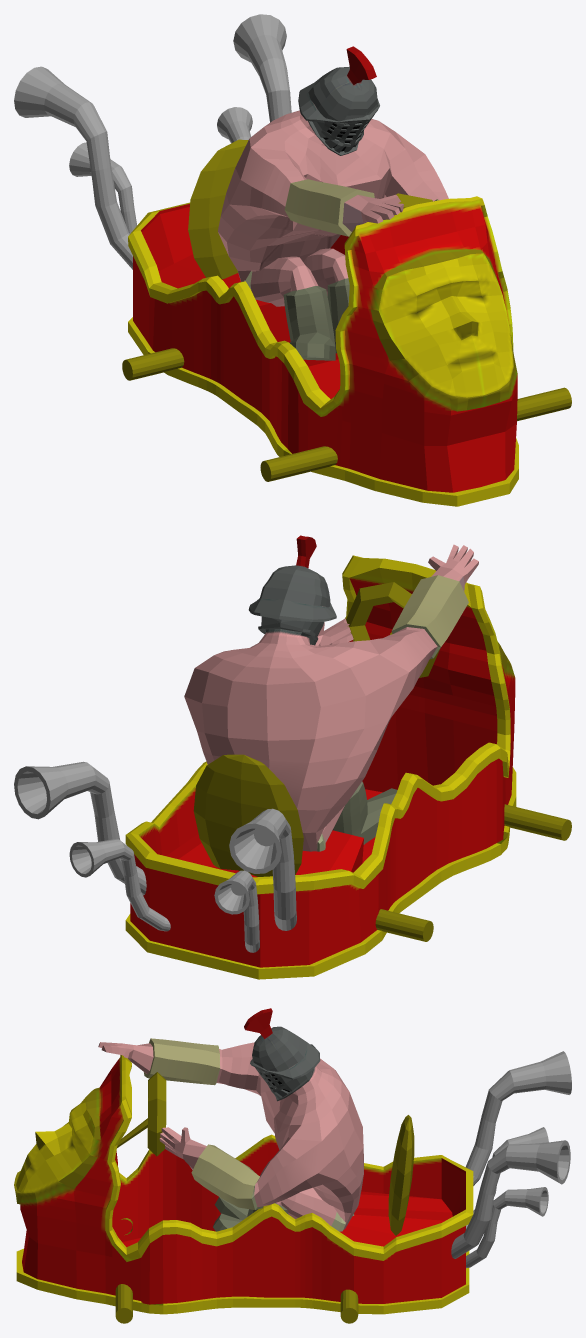
File: gladiVacile_000527.obj
3 renders of one model, top to bottom at view 1: azimuth 30°, elevation 25°; view 2: azimuth 150°, elevation 25°; view 3: azimuth 270°, elevation 25°, orthographic. The views are drawn at different scales.
Visible parts, largest first — view 1: GladiChasis_GladiChasisH, Gadiador_Gladiador_H.001, GladiTubos_GladiTubosH, GladiVolante_GladiVolanteH; view 2: GladiChasis_GladiChasisH, Gadiador_Gladiador_H.001, GladiTubos_GladiTubosH, GladiVolante_GladiVolanteH; view 3: GladiChasis_GladiChasisH, Gadiador_Gladiador_H.001, GladiTubos_GladiTubosH, GladiVolante_GladiVolanteH.
Boxes of the visible parts, left/top/right/bottom form: GladiChasis_GladiChasisH: left=128, top=196, right=518, bottom=506; Gadiador_Gladiador_H.001: left=218, top=46, right=448, bottom=360; GladiTubos_GladiTubosH: left=14, top=14, right=291, bottom=269; GladiVolante_GladiVolanteH: left=122, top=139, right=571, bottom=481; GladiChasis_GladiChasisH: left=125, top=555, right=516, bottom=979; Gadiador_Gladiador_H.001: left=184, top=535, right=478, bottom=851; GladiTubos_GladiTubosH: left=14, top=761, right=296, bottom=952; GladiVolante_GladiVolanteH: left=193, top=582, right=571, bottom=941; GladiChasis_GladiChasisH: left=14, top=1055, right=473, bottom=1314; Gadiador_Gladiador_H.001: left=98, top=1008, right=363, bottom=1231; GladiTubos_GladiTubosH: left=451, top=1051, right=571, bottom=1268; GladiVolante_GladiVolanteH: left=115, top=1072, right=414, bottom=1323.
Bounding box in the file's own units: 5.46 × 5.76 × 10.78.
